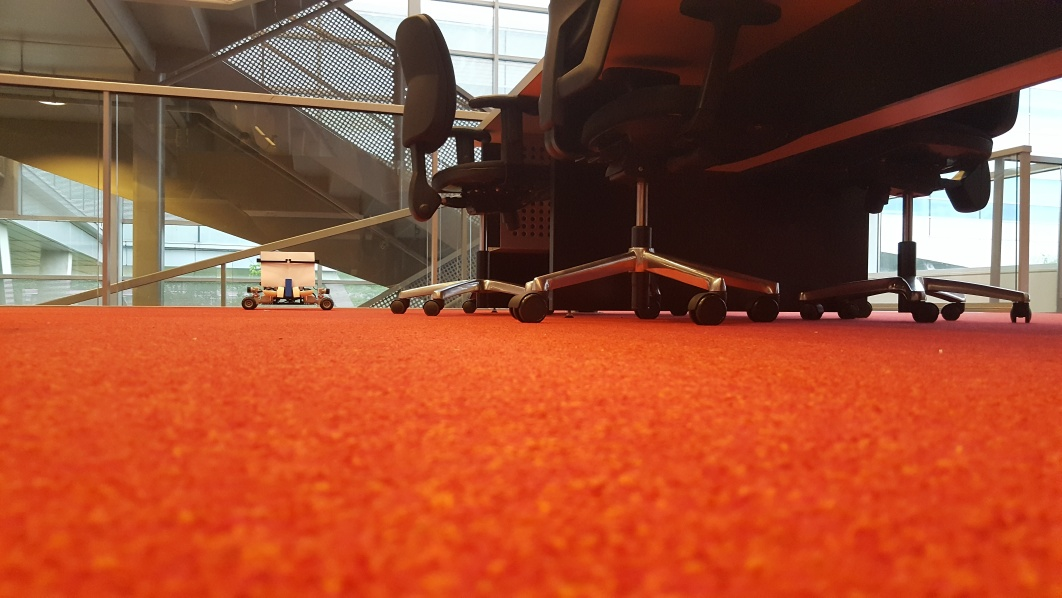car: (235, 247, 335, 312)
